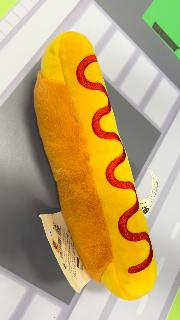hotdog: (33, 31, 159, 301)
